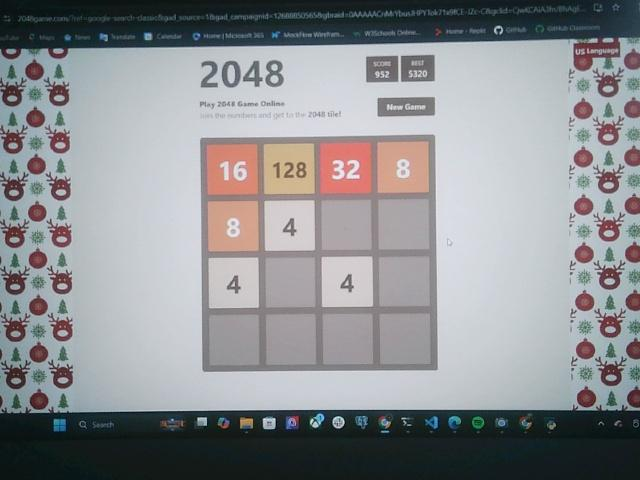board: (202, 137, 437, 371)
tile: (377, 141, 429, 195), (209, 257, 260, 310), (208, 200, 259, 252), (322, 257, 374, 308), (320, 143, 371, 194), (208, 144, 258, 195), (265, 143, 314, 194), (265, 202, 316, 251)
